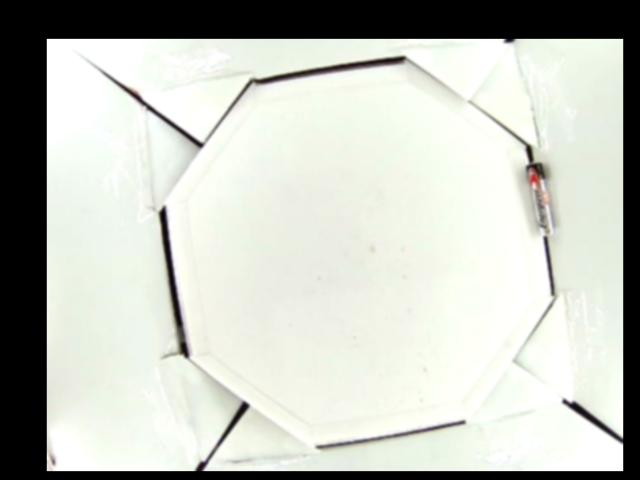Battery: (525, 162, 552, 238)
